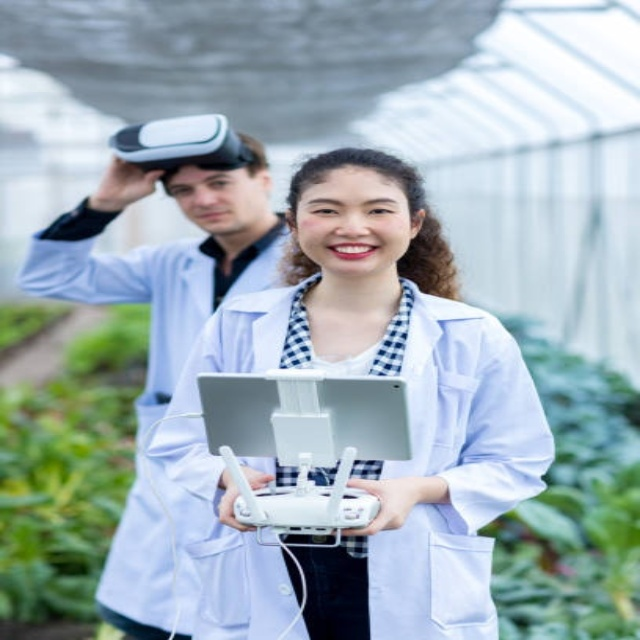Sin_gafas: (301, 193, 405, 223), (168, 172, 234, 198)
Sin_guantes: (330, 475, 421, 536), (88, 155, 168, 209), (216, 463, 275, 532)
Sin_mascara: (315, 239, 397, 270), (180, 205, 245, 233)
